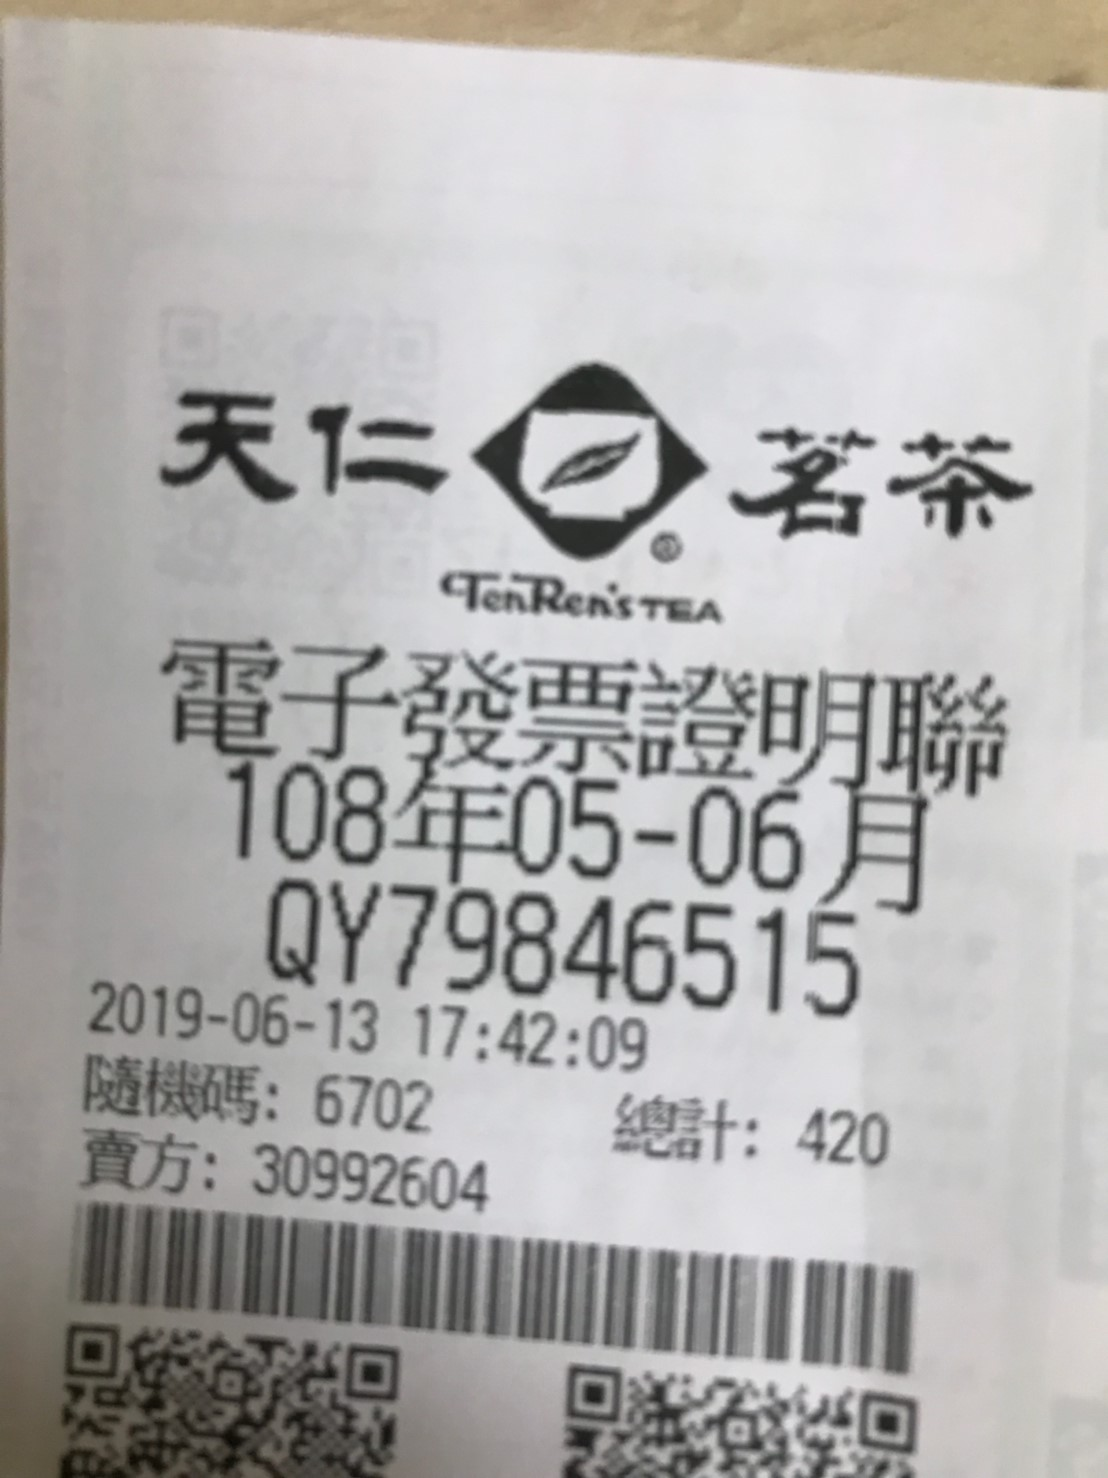Date_New: (223, 760, 940, 922)
Number_New: (388, 876, 864, 1021)
